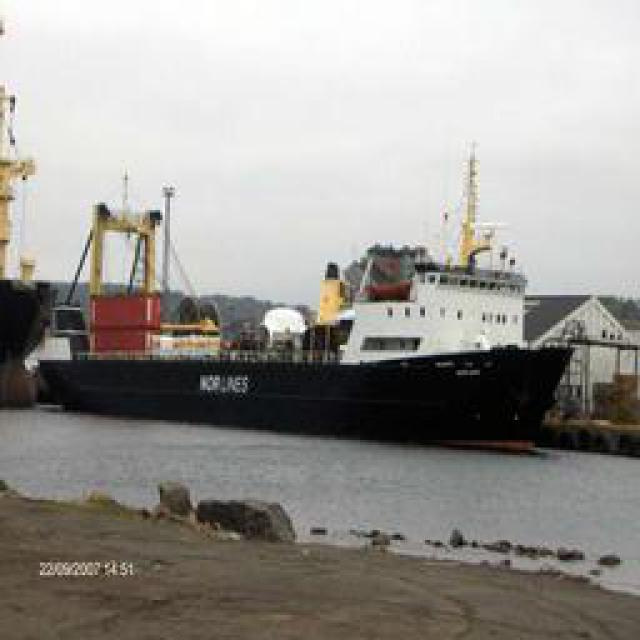Ship: (31, 147, 574, 437)
